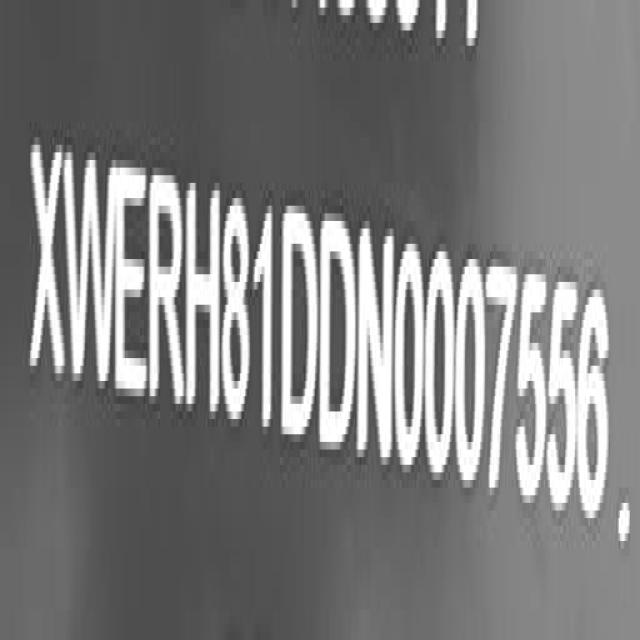0: (456, 248, 486, 494), (424, 240, 455, 477), (396, 237, 424, 474)
1: (253, 198, 274, 440)
5: (546, 268, 579, 516), (515, 260, 547, 505)
6: (578, 276, 610, 528)
7: (485, 257, 517, 502)
8: (222, 192, 251, 432)
D: (278, 198, 319, 440), (320, 203, 358, 454)
E: (114, 161, 147, 412)
H: (184, 181, 221, 423)
N: (357, 223, 396, 471)
R: (148, 164, 184, 418)
W: (63, 133, 115, 392)
X: (29, 124, 66, 390)
